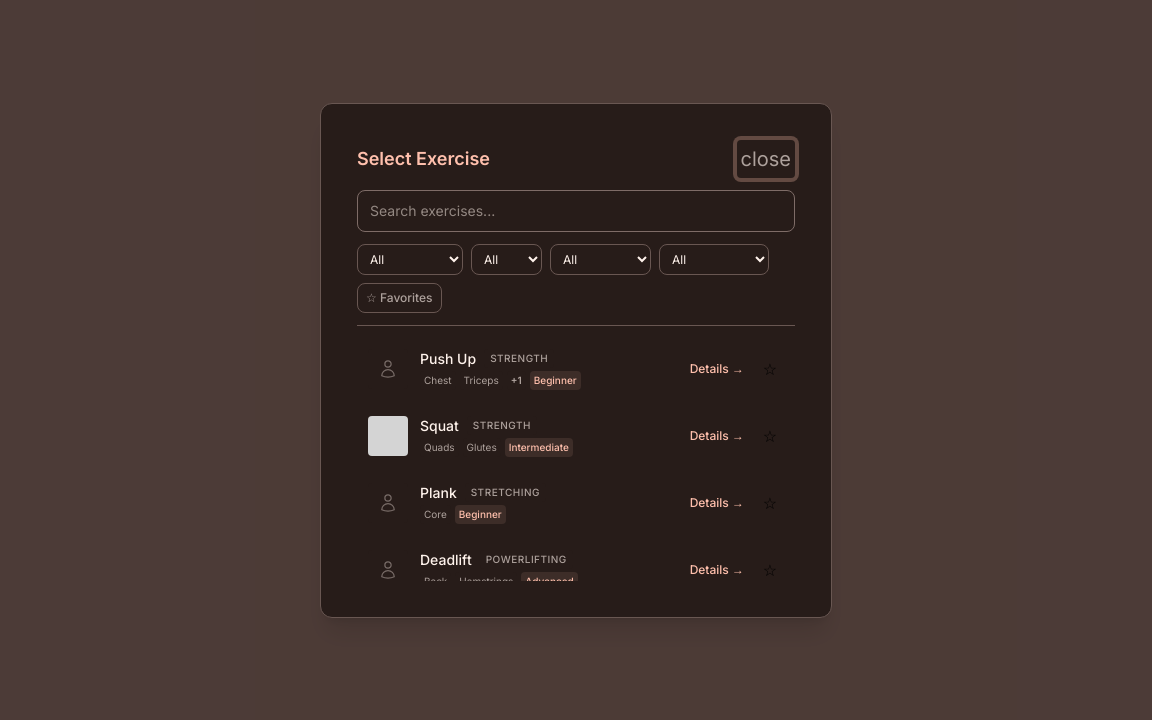
it: ExercisePicker › force filter select narrows results
Select "Static" in the dropdown named "Force": (506, 259) [471,244,542,274]
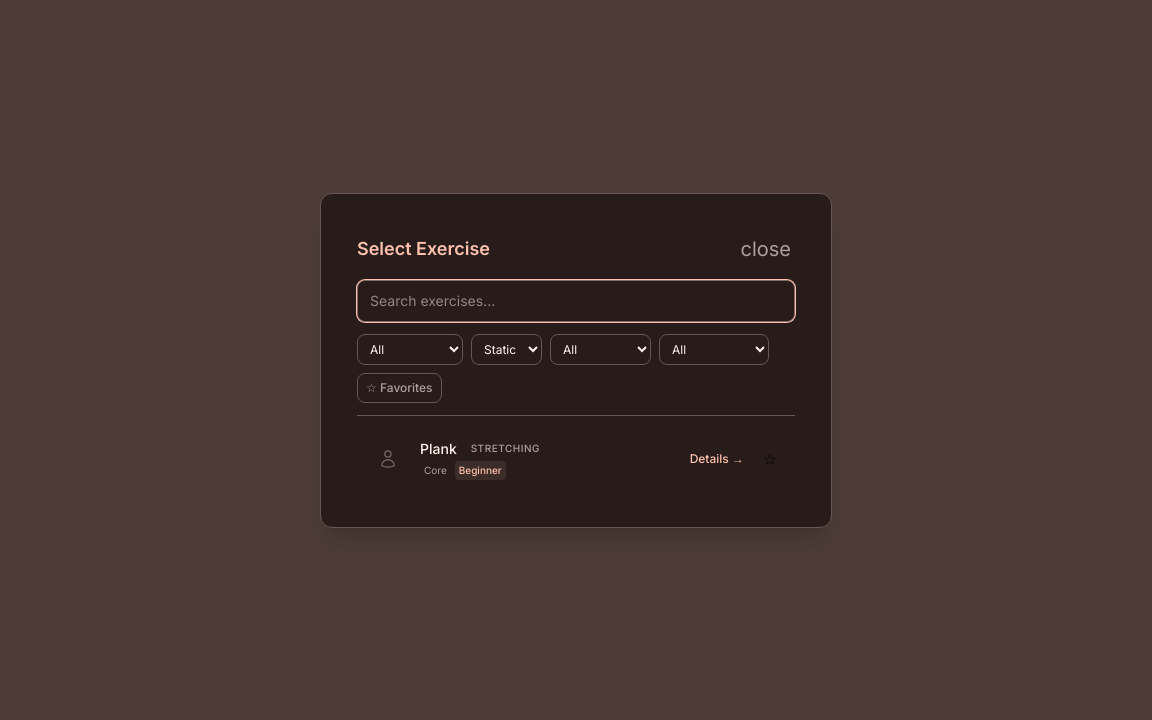
expect the text "Plank" is shown: met, box [420,438,457,458]
expect the button "Push Up" is gone: met
